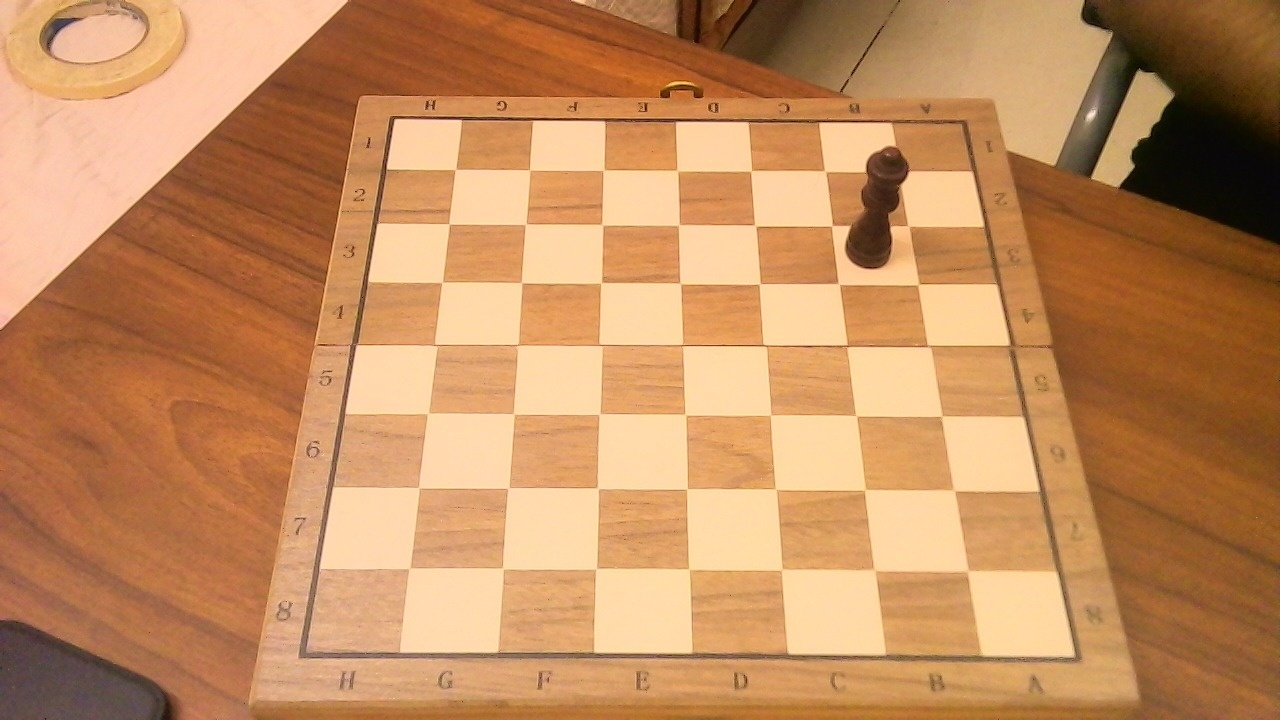q: (840, 132, 919, 275)
